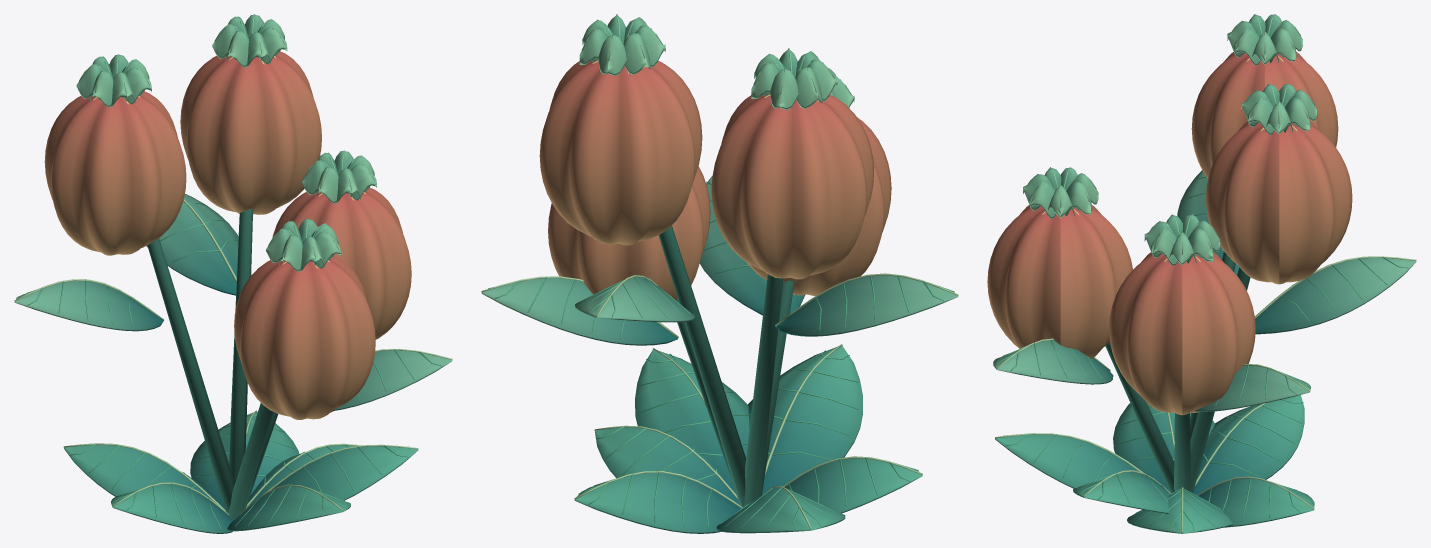
Rendered from enchanted-sunfruit.glb.
The picture shows the model from 3 angles, left to right: view 1: azimuth 30°, elevation 25°; view 2: azimuth 150°, elevation 25°; view 3: azimuth 270°, elevation 25°; orthographic projection. The views are drawn at different scales.
Parts seen in each view (by area): view 1: enchanted-sunfruit-sculpted-details; view 2: enchanted-sunfruit-sculpted-details; view 3: enchanted-sunfruit-sculpted-details.
Boxes of the visible parts, x1,y1,x2,y2 form: enchanted-sunfruit-sculpted-details: (14,14,452,533); enchanted-sunfruit-sculpted-details: (481,14,958,533); enchanted-sunfruit-sculpted-details: (987,14,1416,533).
Bounding box in the file's own units: 0.8725 × 1 × 0.8697.
